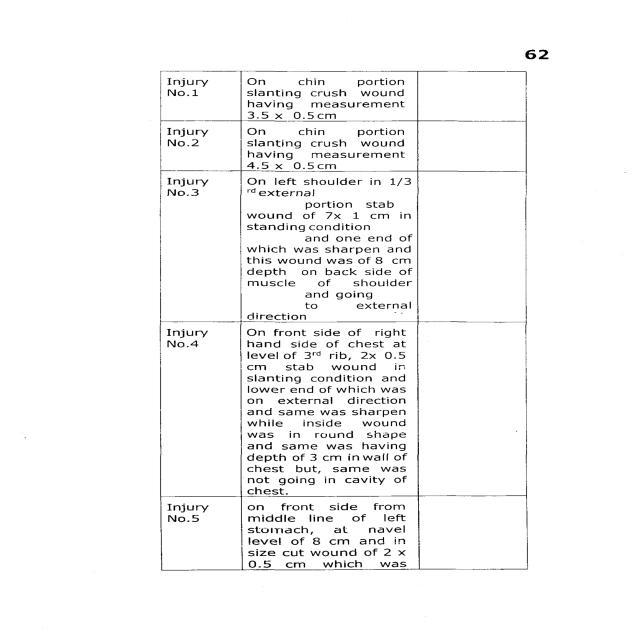page-number: (444, 0, 638, 63)
